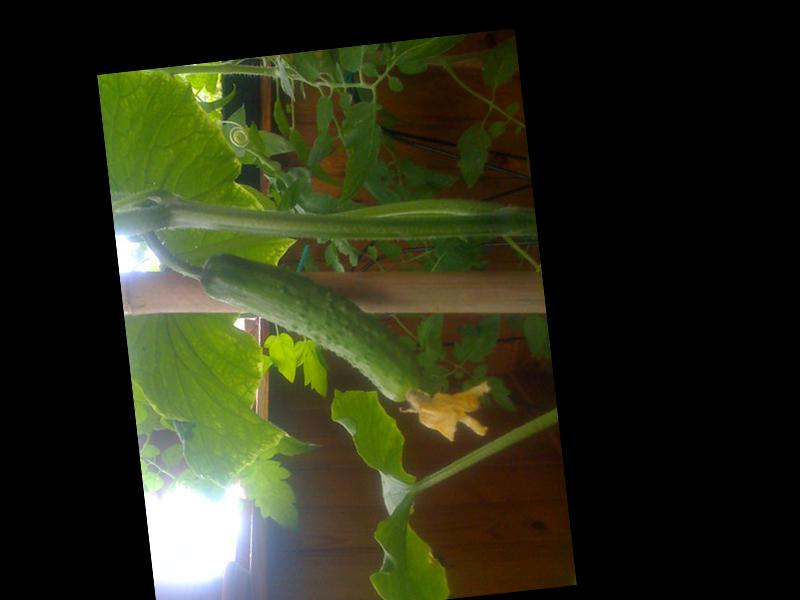Cucumber: (199, 227, 496, 469)
